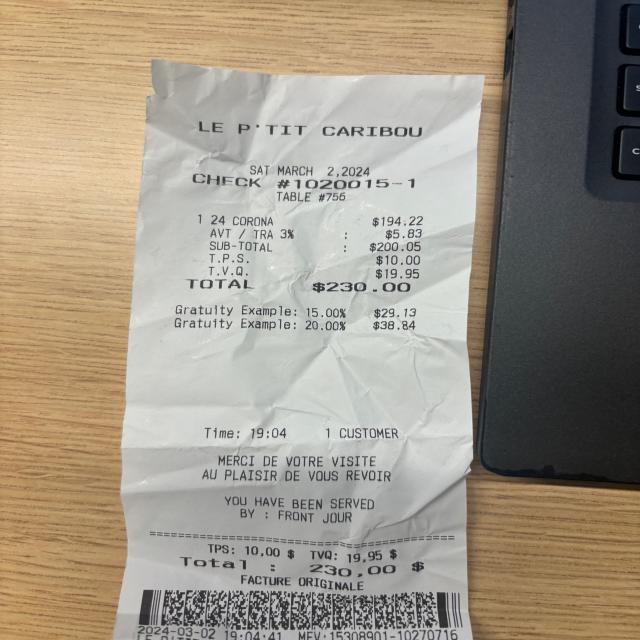item: (227, 211, 430, 231)
store_name: (191, 114, 434, 146)
total_amount: (180, 274, 422, 296)
transaction_date: (243, 161, 376, 182)
